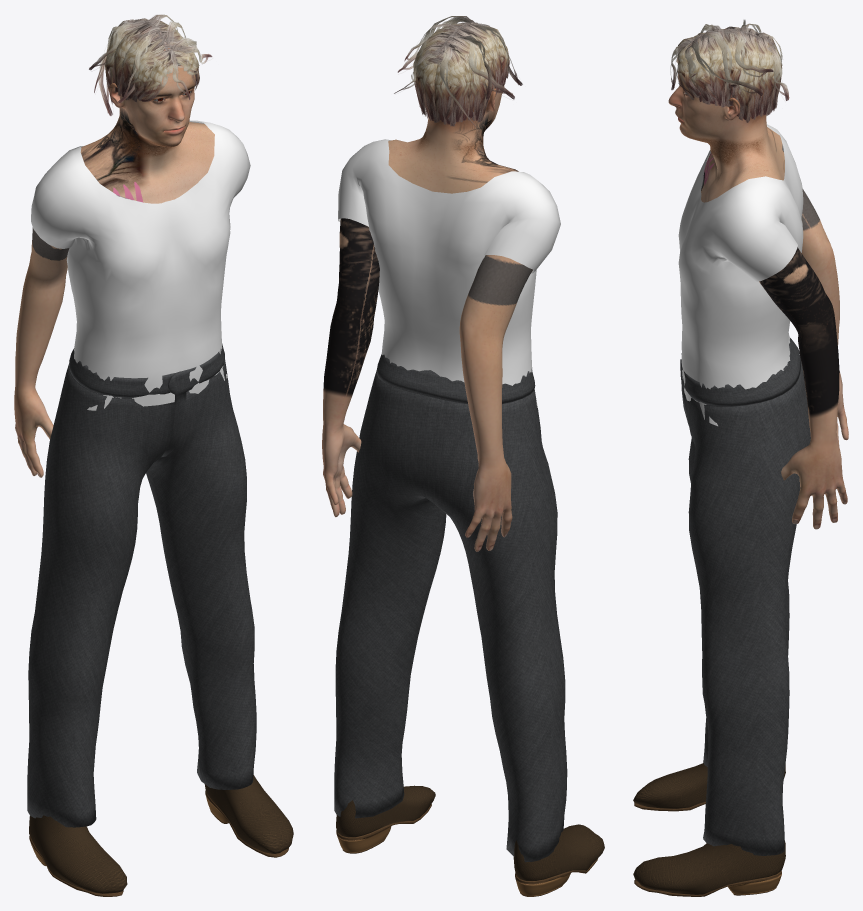
The model's file is duff.glb.
3 renders of one model, left to right at view 1: azimuth 30°, elevation 25°; view 2: azimuth 150°, elevation 25°; view 3: azimuth 270°, elevation 25°, orthographic.
Parts seen in each view (by area): view 1: duff.toigo_wool_pants, duff.elvs_crude_t-shirt_male, duff.body, duff.toigo_ankle_boots_male, duff.cortu_short_messy_hair; view 2: duff.toigo_wool_pants, duff.elvs_crude_t-shirt_male, duff.body, duff.cortu_short_messy_hair, duff.toigo_ankle_boots_male; view 3: duff.toigo_wool_pants, duff.elvs_crude_t-shirt_male, duff.body, duff.toigo_ankle_boots_male, duff.cortu_short_messy_hair.
Part boxes in pixels (x1,y1,x2,y2): duff.toigo_wool_pants: (27,343,256,827); duff.elvs_crude_t-shirt_male: (31,120,250,410); duff.body: (14,48,214,477); duff.toigo_ankle_boots_male: (29,775,293,896); duff.cortu_short_messy_hair: (89,14,212,115); duff.toigo_wool_pants: (334,354,567,862); duff.elvs_crude_t-shirt_male: (338,139,560,407); duff.body: (322,50,532,551); duff.cortu_short_messy_hair: (394,16,522,131); duff.toigo_ankle_boots_male: (336,770,604,896); duff.toigo_wool_pants: (680,338,810,855); duff.elvs_crude_t-shirt_male: (678,124,803,426); duff.body: (668,57,848,529); duff.toigo_ankle_boots_male: (633,763,785,896); duff.cortu_short_messy_hair: (670,19,789,122).
Size of the model in its own units: 0.5231 by 1.82 by 0.4338.
9 materials, 9 textured.
